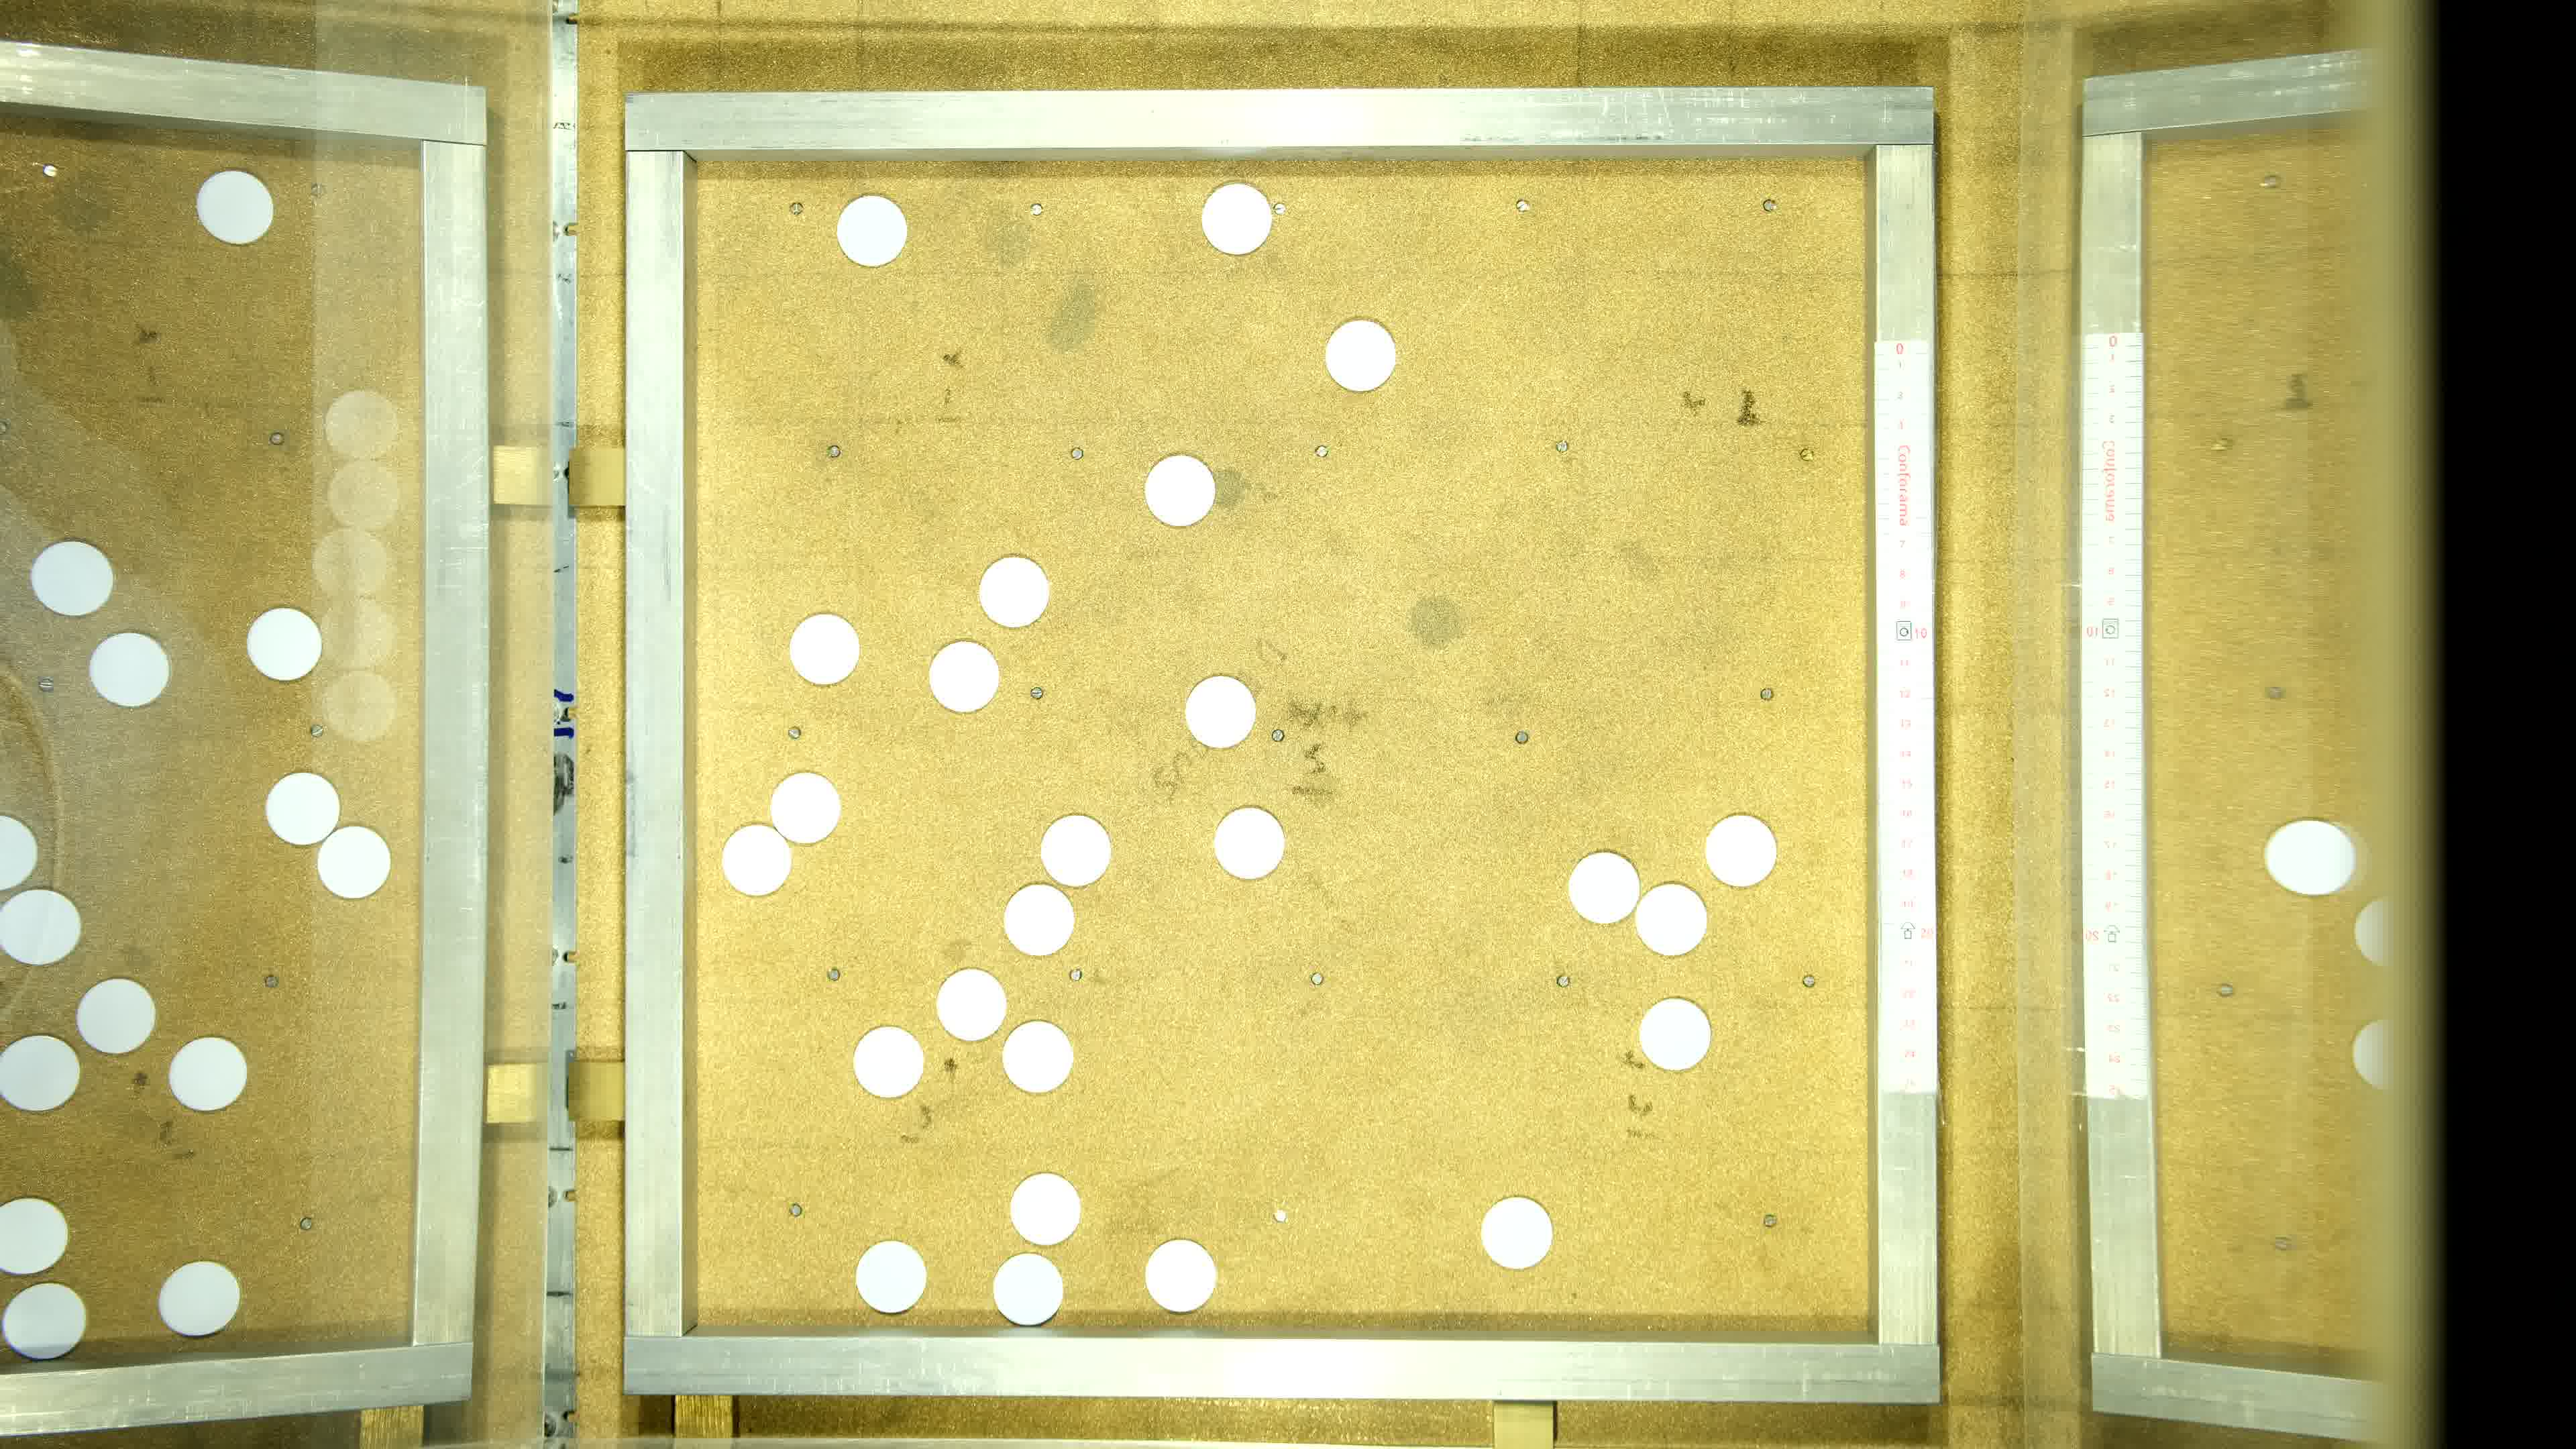pallet: (1214, 805, 1286, 883), (927, 637, 1000, 715), (851, 1021, 924, 1099), (1001, 1019, 1074, 1097), (936, 964, 1008, 1042), (1182, 672, 1254, 750), (1003, 879, 1076, 957), (1039, 812, 1111, 890), (768, 768, 840, 846), (1143, 451, 1215, 529), (977, 554, 1049, 632), (789, 612, 862, 690), (720, 821, 793, 899), (1638, 996, 1711, 1074), (1635, 879, 1707, 957), (1706, 810, 1778, 888), (1568, 849, 1640, 927), (1200, 180, 1272, 258), (1325, 313, 1398, 391), (837, 191, 909, 269), (1481, 1196, 1553, 1274), (1146, 1237, 1219, 1315), (856, 1238, 929, 1316), (991, 1247, 1063, 1325), (1008, 1169, 1079, 1246)
